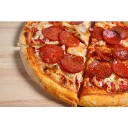pepperonipizza: (21, 20, 128, 106)
